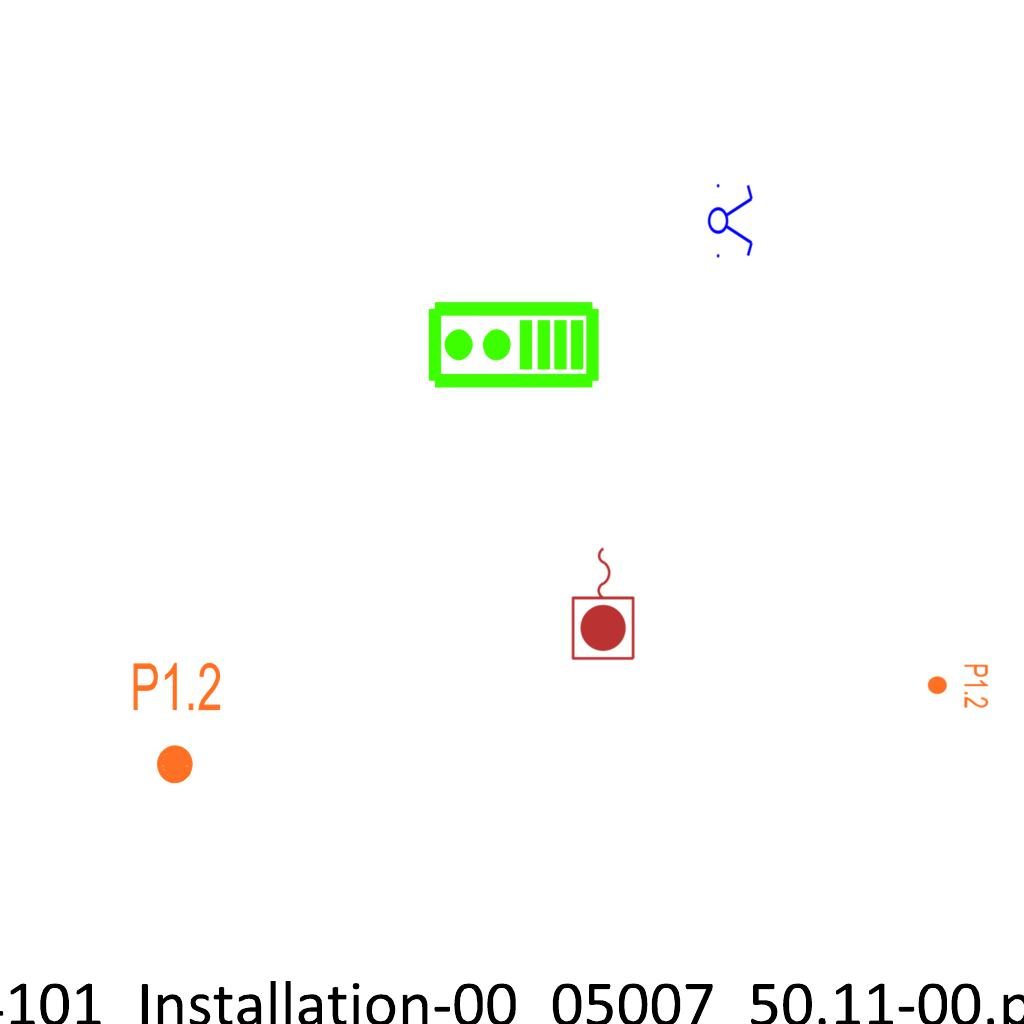Downlight_LED_Einbauleuchten_Flur: (130, 659, 223, 787), (926, 663, 990, 709)
Gegensprechanlage_mit_Video: (425, 299, 601, 394)
Serienschalter: (707, 178, 755, 262)
Zugtaster: (568, 542, 640, 664)
